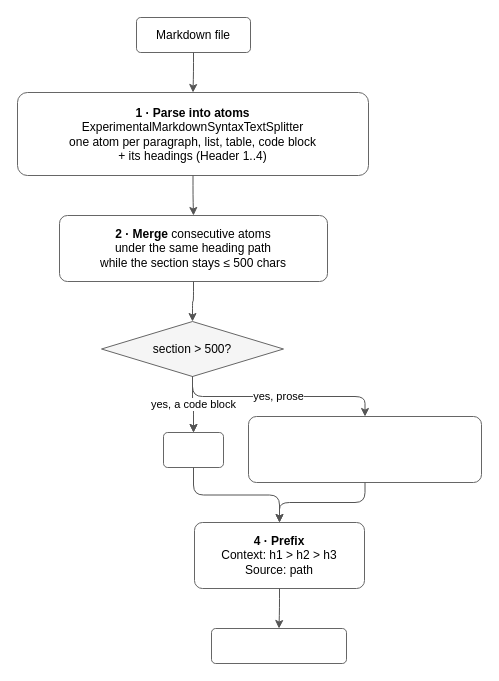
Image size: 499x681. Some labels were removed from this diagram. The shapes that lost their labels are listed below. From the top down, each one's centre as x and y in pixels, then its label:
At (x=193, y=450): "keep".
At (x=365, y=449): "3 · Split on size RecursiveCharacterTextSplitter 500 / overlap 80".
At (x=278, y=646): "5 · Locate lines".
